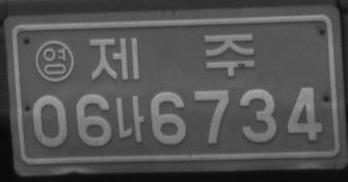0: (30, 93, 68, 148)
3: (239, 87, 278, 143)
4: (285, 85, 324, 142)
6: (74, 92, 113, 148), (149, 90, 187, 146)
7: (192, 89, 229, 144)
나: (113, 93, 146, 142)
영: (33, 38, 74, 83)
제주_D: (89, 32, 256, 81)
